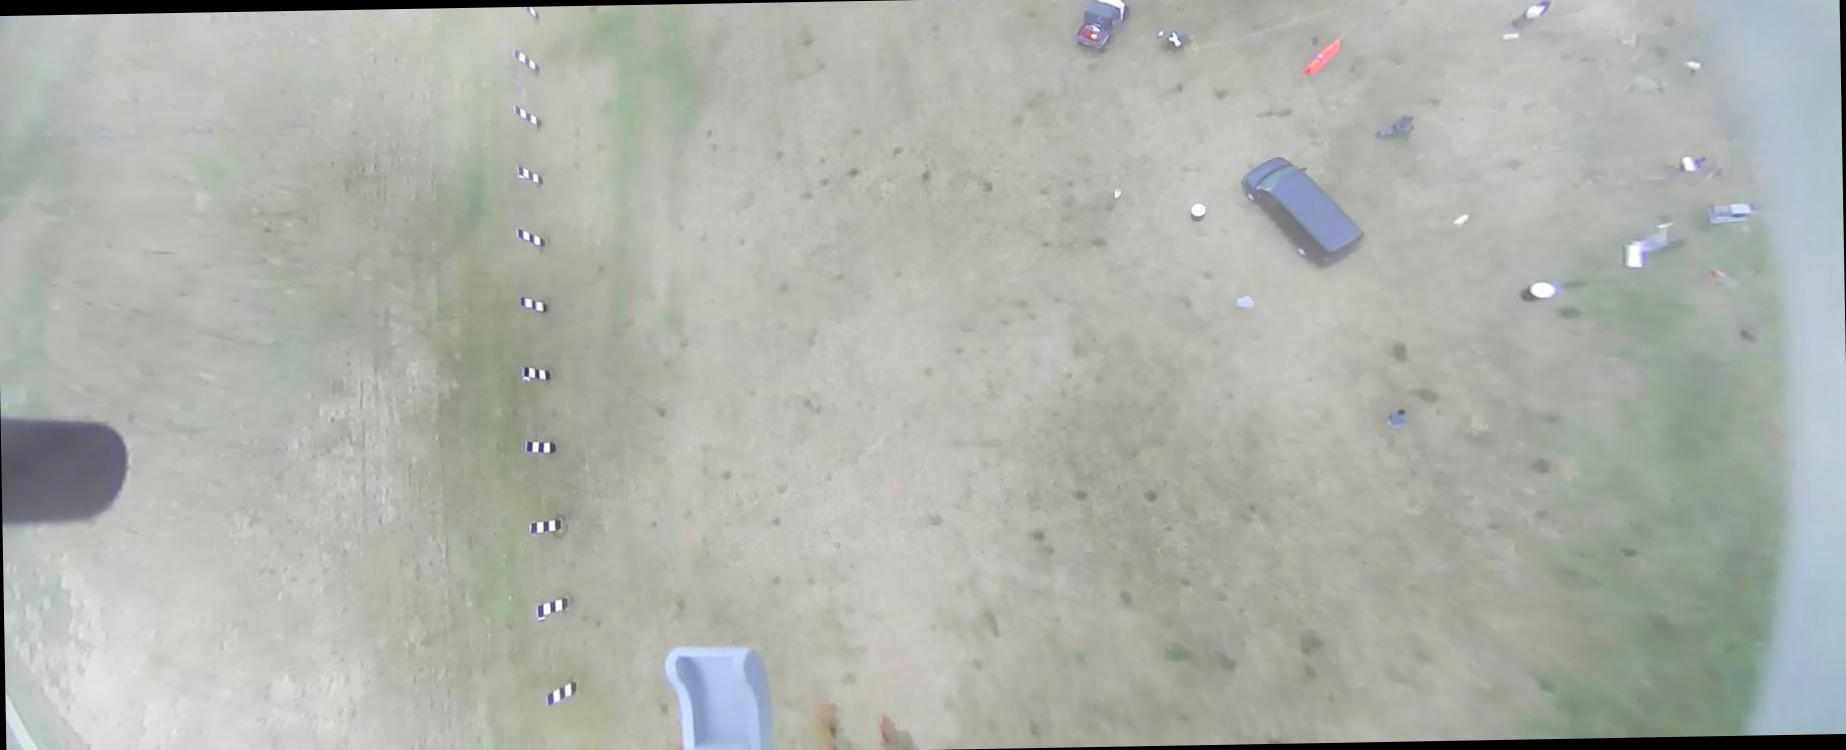vehicle: (1240, 155, 1364, 272), (1075, 0, 1131, 57)
